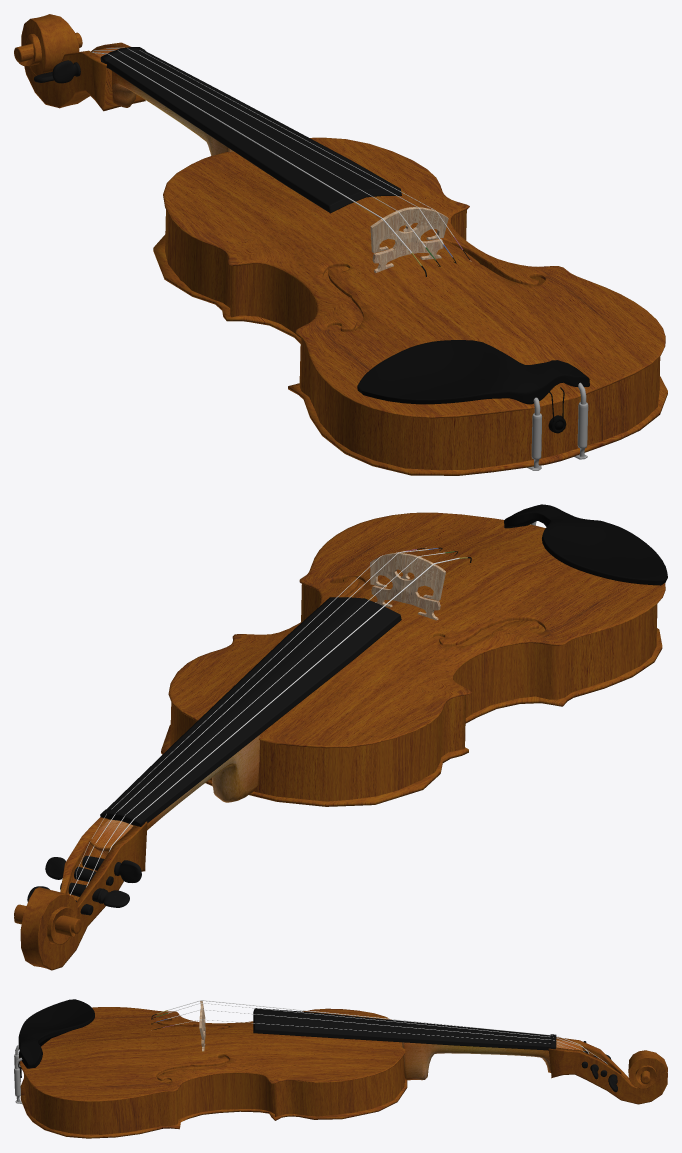
File: violin3.glb
3 renders of one model, top to bottom at view 1: azimuth 30°, elevation 25°; view 2: azimuth 150°, elevation 25°; view 3: azimuth 270°, elevation 25°, orthographic. The views are drawn at different scales.
Parts seen in each view (by area): view 1: VIOLIN, VIOLIN.009, VIOLIN.006, VIOLIN.003, VIOLIN.008, VIOLIN.010, VIOLIN.007, VIOLIN.005, VIOLIN.004, G-String; view 2: VIOLIN, VIOLIN.009, VIOLIN.006, VIOLIN.008, VIOLIN.003, VIOLIN.010, VIOLIN.005, VIOLIN.007, Peg.003, G-String, Peg.004, Peg.002; view 3: VIOLIN, VIOLIN.009, VIOLIN.006, VIOLIN.008, VIOLIN.003, VIOLIN.005, VIOLIN.010, G-String, D-String, A-String, VIOLIN.004, E-String (+1 smaller).
Boxes of the visible parts, x1,y1,x2,y2 form: VIOLIN: [163, 137, 665, 418]; VIOLIN.009: [165, 189, 660, 469]; VIOLIN.006: [100, 47, 401, 213]; VIOLIN.003: [357, 340, 589, 433]; VIOLIN.008: [14, 14, 145, 111]; VIOLIN.010: [153, 234, 667, 475]; VIOLIN.007: [370, 207, 448, 272]; VIOLIN.005: [92, 47, 233, 155]; VIOLIN.004: [527, 382, 588, 470]; G-String: [92, 52, 426, 276]; VIOLIN: [168, 512, 665, 748]; VIOLIN.009: [170, 579, 657, 801]; VIOLIN.006: [100, 597, 401, 826]; VIOLIN.008: [14, 817, 147, 970]; VIOLIN.003: [504, 504, 667, 585]; VIOLIN.010: [161, 581, 662, 806]; VIOLIN.005: [89, 734, 260, 857]; VIOLIN.007: [370, 553, 445, 620]; Peg.003: [60, 882, 129, 907]; G-String: [108, 557, 471, 852]; Peg.004: [82, 855, 141, 882]; Peg.002: [45, 857, 113, 885]; VIOLIN: [19, 1007, 405, 1101]; VIOLIN.009: [23, 1019, 404, 1134]; VIOLIN.006: [253, 1008, 556, 1050]; VIOLIN.008: [548, 1037, 667, 1104]; VIOLIN.003: [18, 999, 94, 1077]; VIOLIN.005: [402, 1040, 583, 1080]; VIOLIN.010: [20, 1062, 407, 1138]; G-String: [151, 1000, 588, 1053]; D-String: [151, 1003, 607, 1064]; A-String: [151, 1009, 584, 1052]; VIOLIN.004: [14, 1045, 22, 1104]; E-String: [154, 1019, 573, 1049].
Size of the model in its own units: 0.2289 by 0.1072 by 0.6672.
15 materials, 6 textured.
